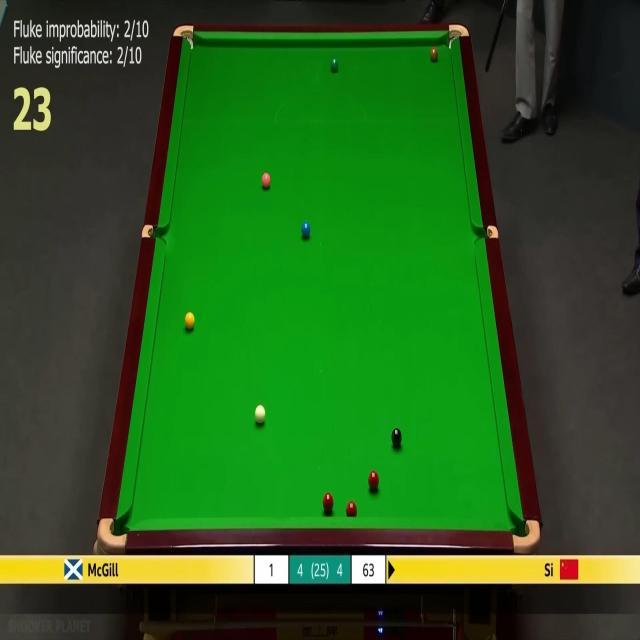Ball: (390, 428, 402, 448), (366, 470, 378, 490), (322, 493, 333, 511), (254, 407, 266, 422), (347, 501, 358, 516), (302, 222, 312, 236), (262, 174, 272, 188), (430, 47, 438, 56)
